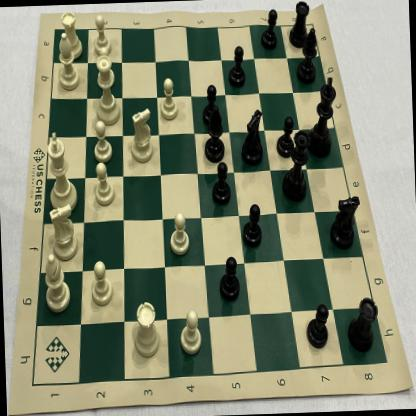bishop: (38, 250, 70, 312), (54, 36, 84, 101), (293, 30, 318, 86)
king: (306, 71, 340, 161), (44, 134, 77, 212)
knight: (44, 199, 78, 263), (326, 192, 363, 248), (127, 104, 156, 166), (236, 102, 264, 164), (198, 112, 226, 167)
pawn: (90, 152, 118, 208), (172, 304, 201, 356), (95, 111, 121, 165), (306, 298, 332, 348), (168, 209, 195, 257), (208, 162, 233, 212), (240, 199, 264, 250), (219, 252, 245, 298), (90, 16, 116, 61), (91, 260, 115, 306), (157, 78, 178, 124), (225, 45, 247, 88), (275, 116, 295, 159), (96, 48, 115, 88), (200, 84, 219, 124), (260, 12, 280, 50)
queen: (282, 139, 314, 206), (92, 57, 124, 114)
rook: (346, 291, 380, 354), (54, 9, 86, 73), (132, 298, 164, 362), (285, 4, 309, 47)
